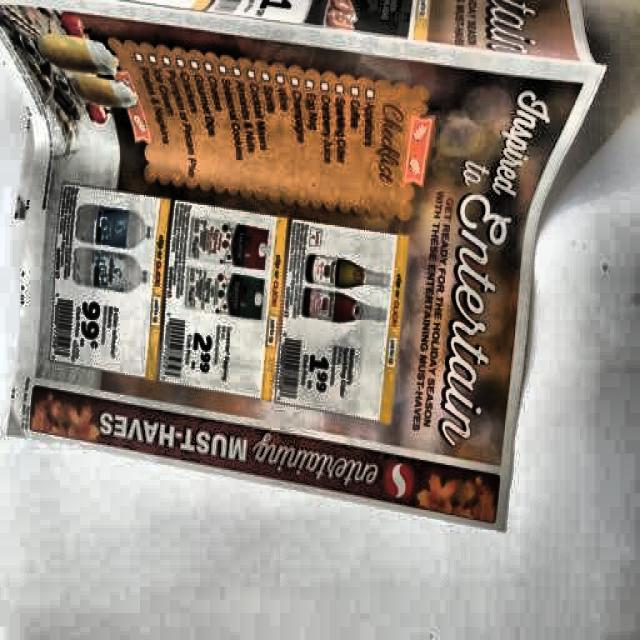paper: (0, 0, 606, 533)
